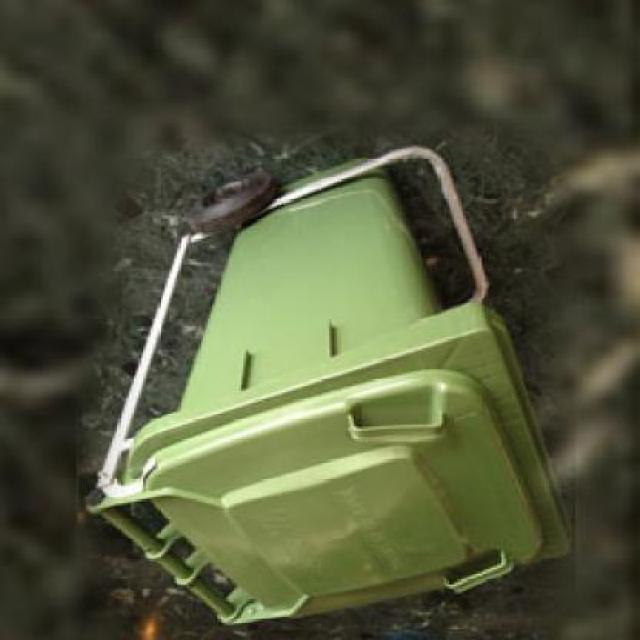garbage container: (80, 120, 594, 628)
